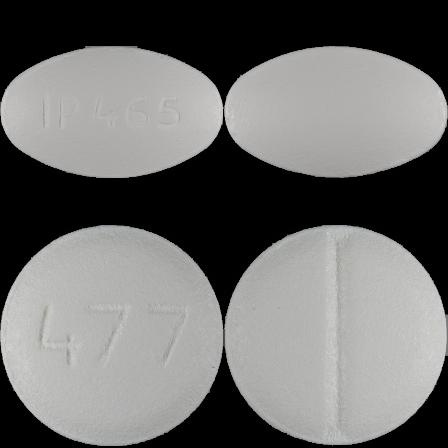64725-0465: (0, 0, 224, 224)
